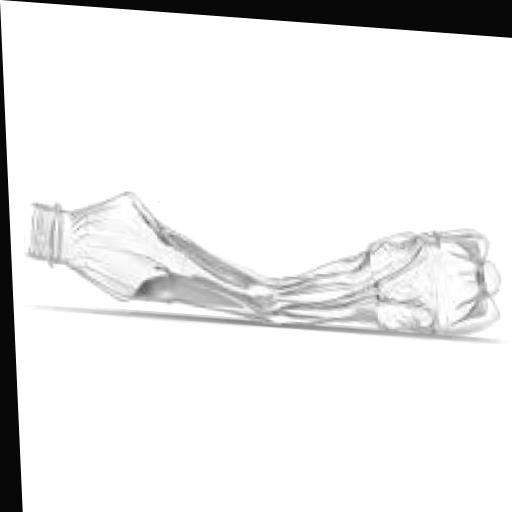bottle: (7, 163, 512, 392)
